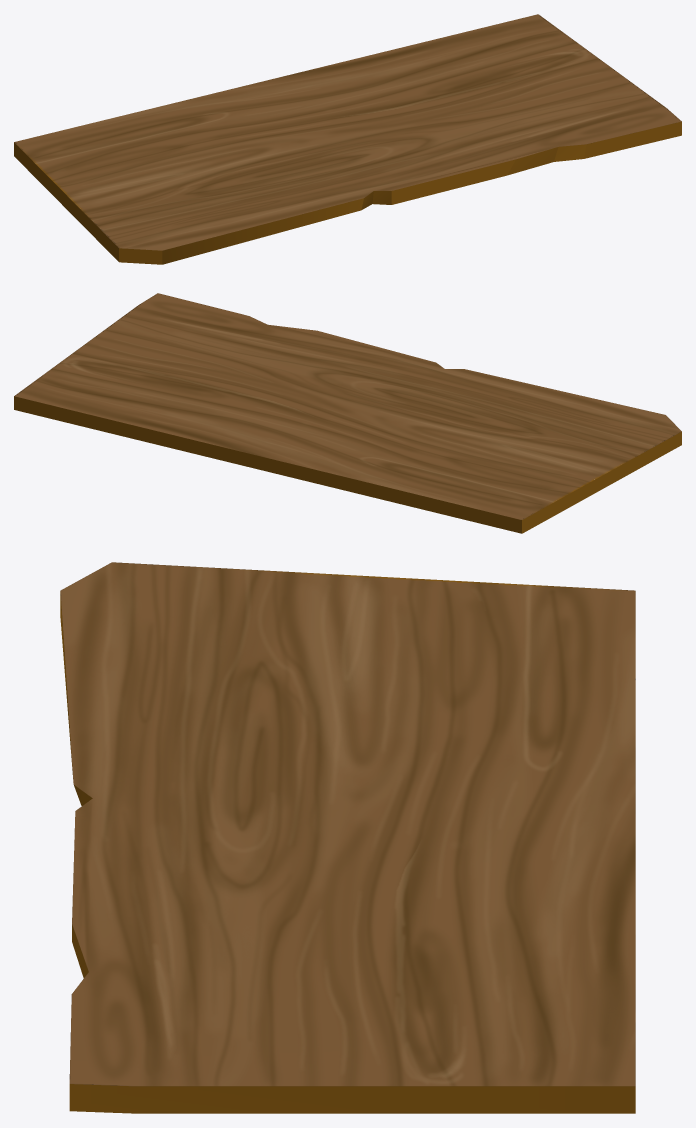
The model's file is mesa.glb.
The picture shows the model from 3 angles, top to bottom: view 1: azimuth 30°, elevation 25°; view 2: azimuth 150°, elevation 25°; view 3: azimuth 270°, elevation 25°; orthographic projection. The views are drawn at different scales.
Visible parts, largest first — view 1: Cube_1.002; view 2: Cube_1.002; view 3: Cube_1.002.
Part boxes in pixels (bbox=[...]): Cube_1.002: bbox=[14, 14, 681, 264]; Cube_1.002: bbox=[14, 293, 681, 533]; Cube_1.002: bbox=[60, 562, 635, 1113].
Size of the model in its own units: 27.2 by 0.7591 by 12.61.
1 material, 1 textured.
